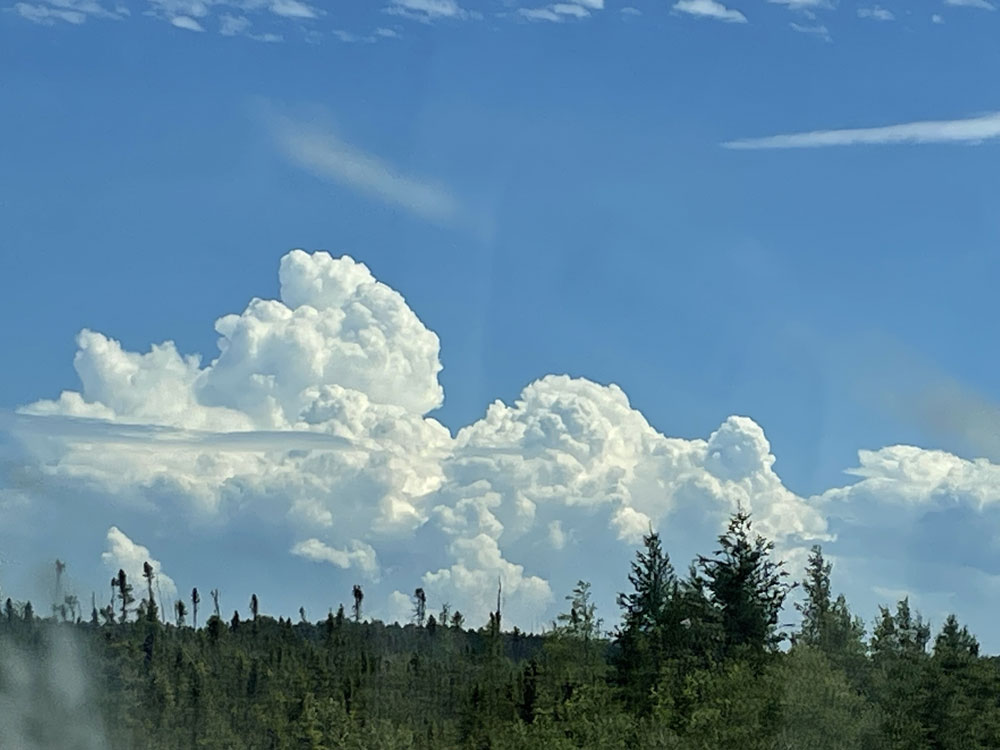Cumulus: (29, 209, 437, 586), (444, 356, 809, 598), (817, 429, 1000, 570)
